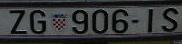-: (131, 19, 138, 24)
0: (92, 10, 108, 34)
6: (112, 9, 128, 34)
9: (71, 10, 89, 35)
G: (29, 10, 46, 34)
I: (148, 8, 153, 33)
S: (161, 7, 179, 33)
Z: (9, 9, 28, 35)
